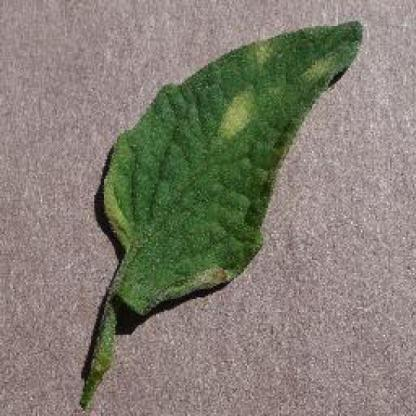Tomato_Leaf_Mold: (103, 19, 362, 318)
